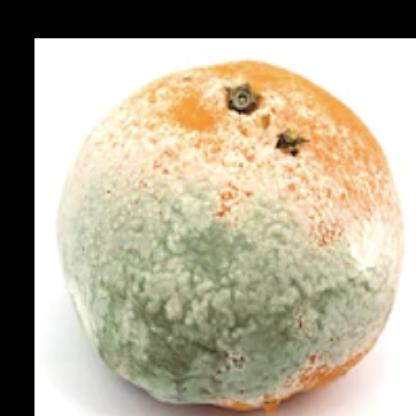rotten: (63, 63, 404, 416)
